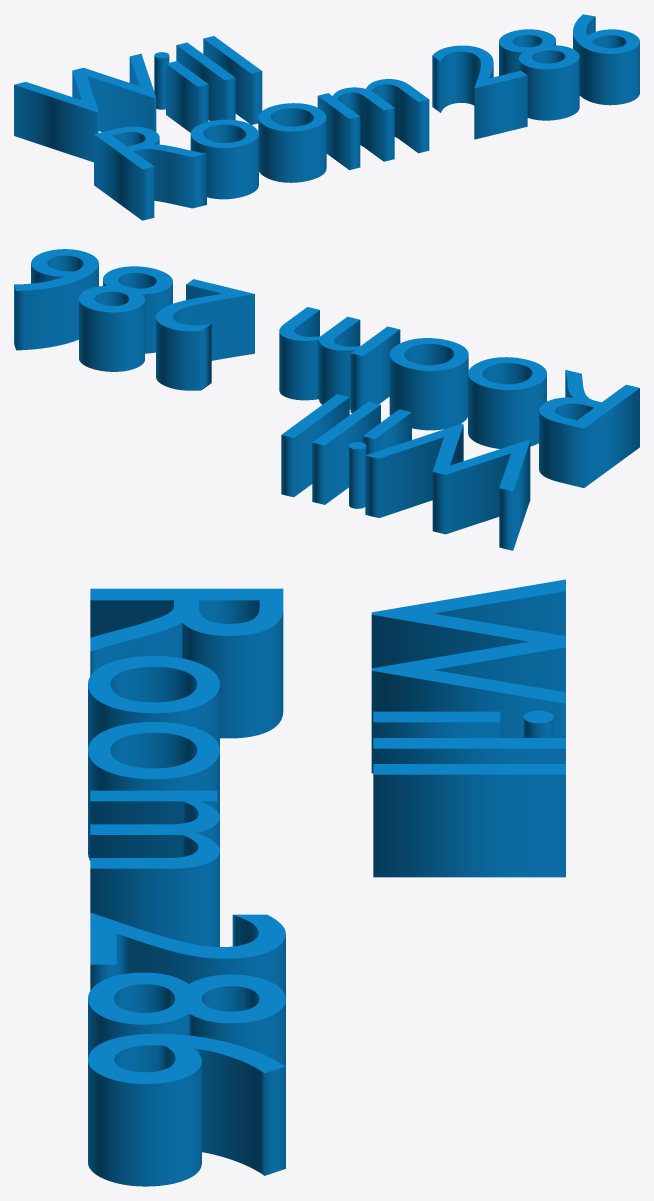
Rendered from will-286.gltf.
The picture shows the model from 3 angles, top to bottom: view 1: azimuth 30°, elevation 25°; view 2: azimuth 150°, elevation 25°; view 3: azimuth 270°, elevation 25°; orthographic projection. The views are drawn at different scales.
Parts seen in each view (by area): view 1: Text; view 2: Text; view 3: Text.
Boxes of the visible parts, x1,y1,x2,y2 form: Text: [14, 14, 639, 220]; Text: [14, 249, 639, 550]; Text: [88, 579, 565, 1186].
Bounding box in the file's own units: 4.22 × 0.4 × 1.69.
